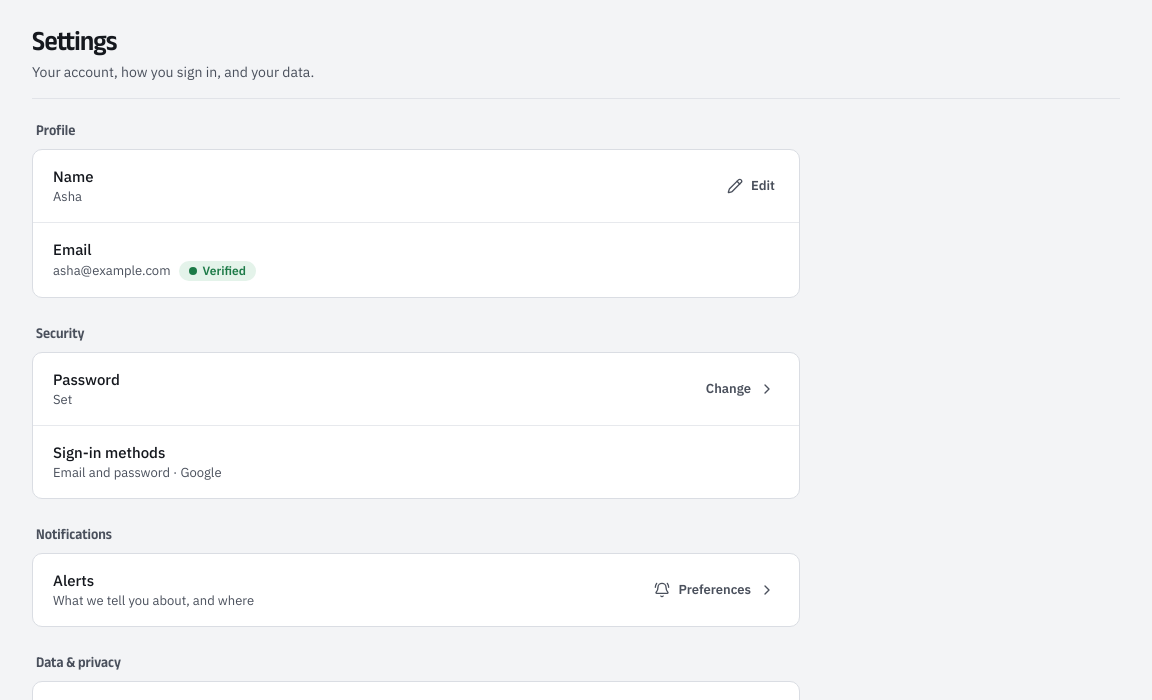
Test case: SettingsPage › checks the two new passwords match before asking the API
Step 1. Click the button "Change" → click(740, 389), box [694, 373, 787, 405]
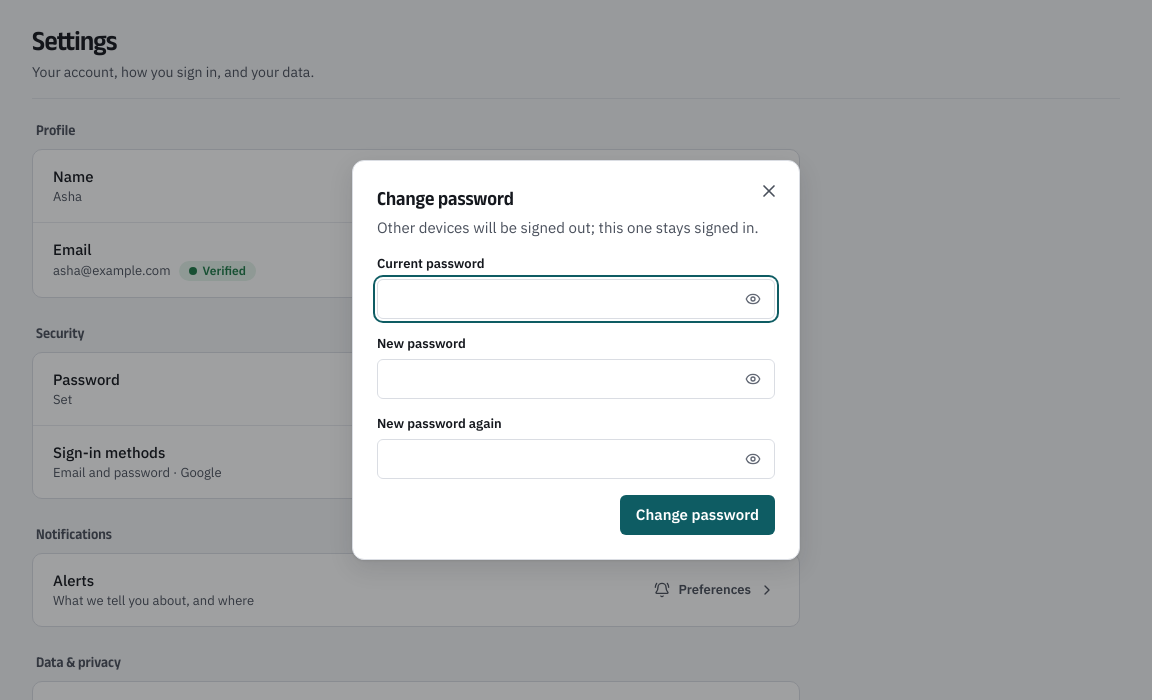
Step 2. Type "old-password-1" into the password field labelled "Current password" → (576, 299), box [377, 279, 775, 319]
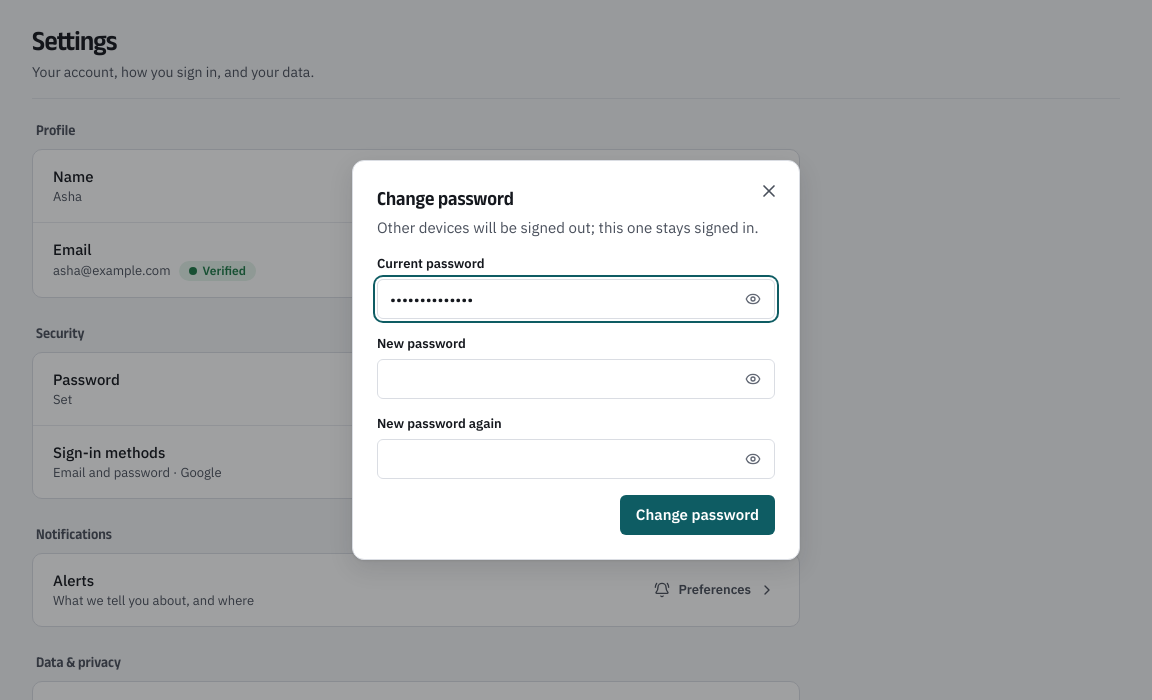
Step 3. Type "new-password-2" into the password field labelled "New password" → (576, 379), box [377, 359, 775, 399]
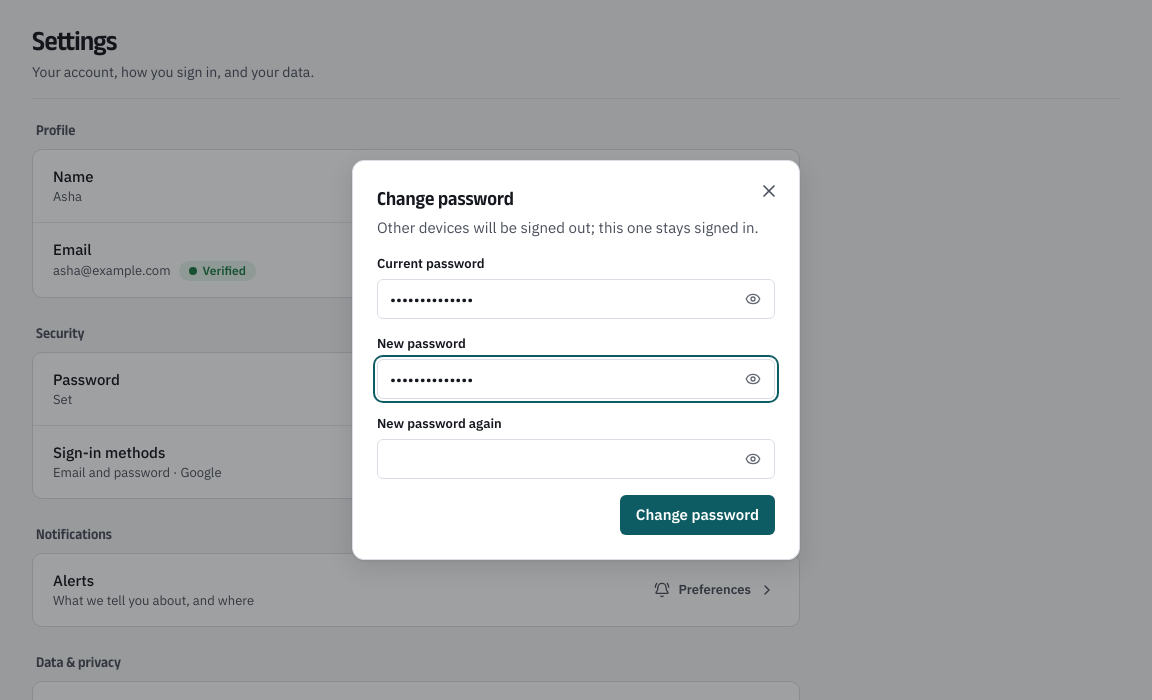
Step 4. Type "different-3" into the password field labelled "New password again" → (576, 459), box [377, 439, 775, 479]
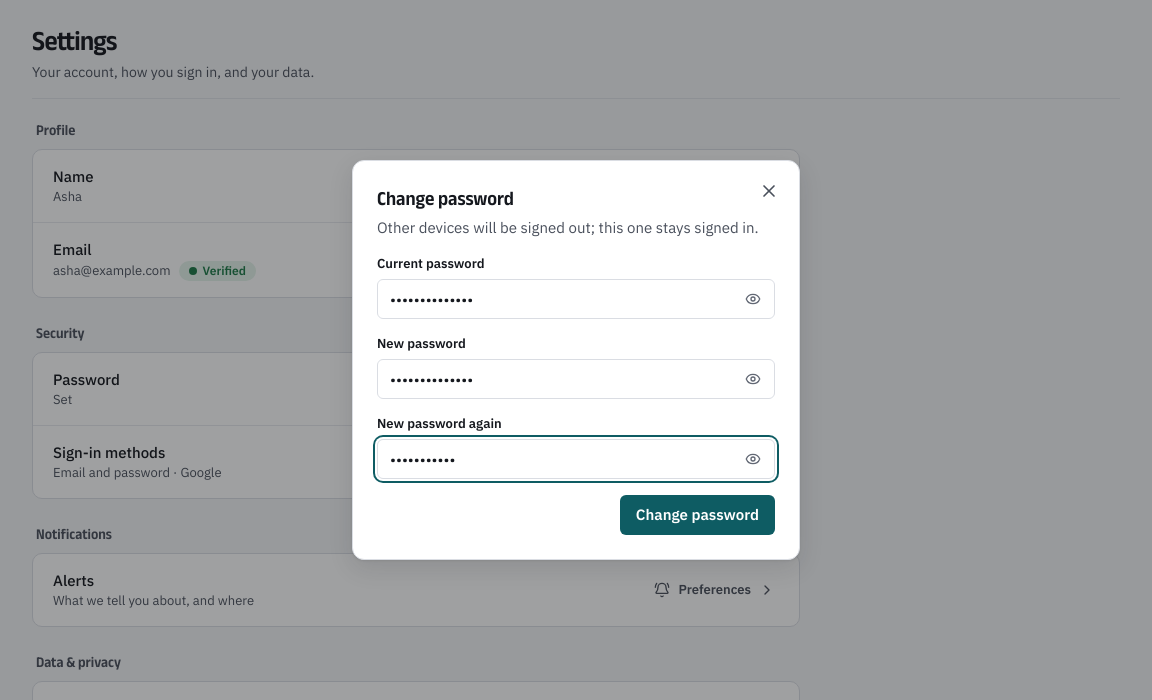
Step 5. Click the button "Change password" → click(697, 515), box [620, 495, 775, 535]
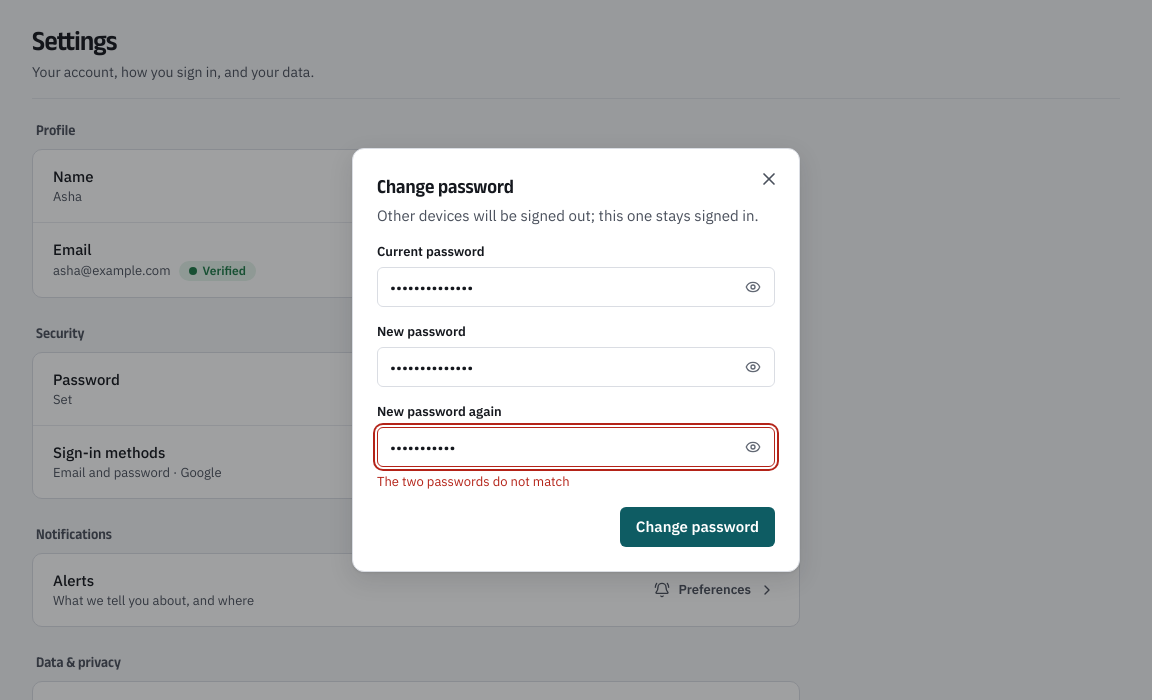
Check: the text "The two passwords do not match" is shown, box [377, 473, 570, 490]
